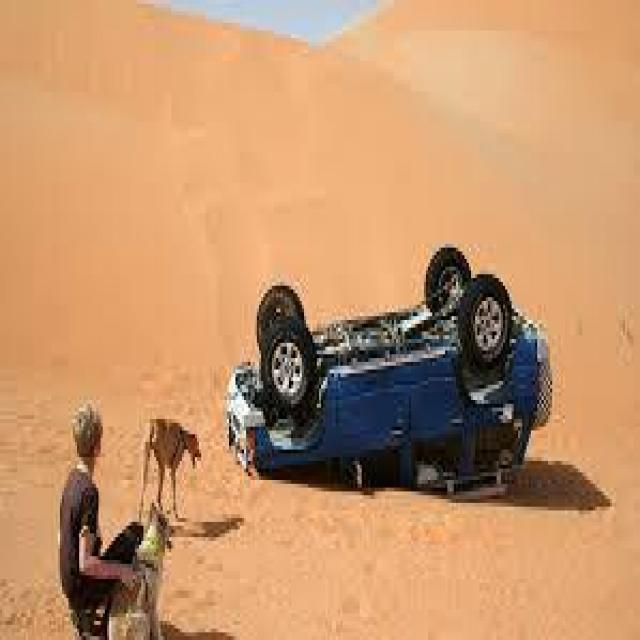accident: (218, 234, 556, 497)
